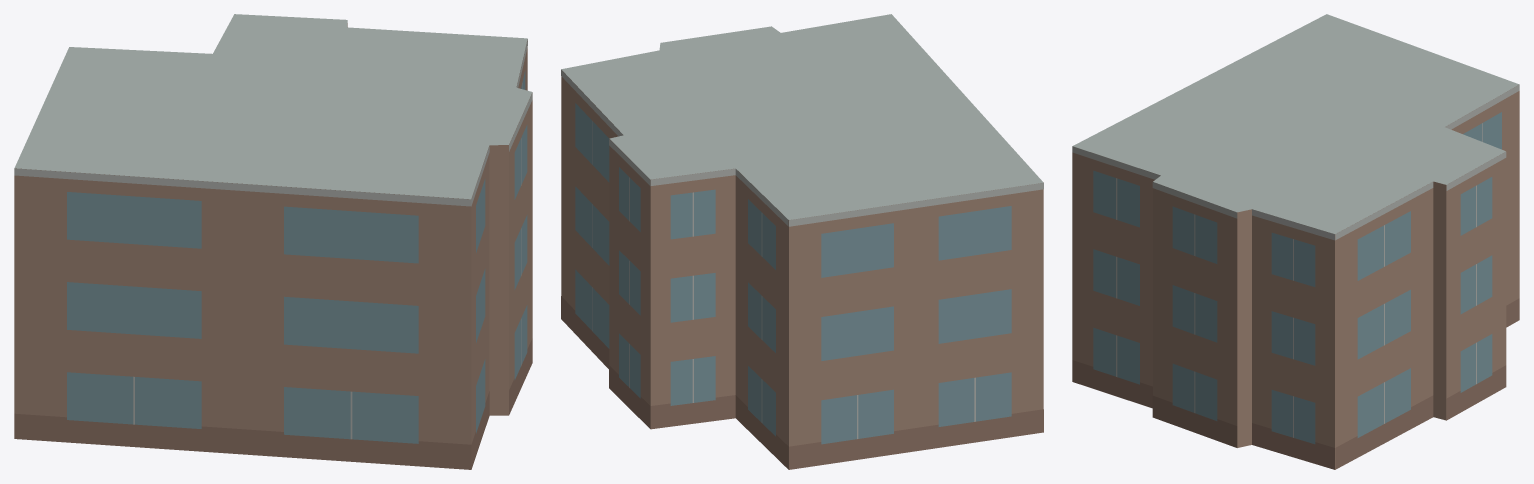
The model's file is survey-upis-32672709.glb.
3 views of the same model, side by side, from view 1: azimuth 30°, elevation 25°; view 2: azimuth 150°, elevation 25°; view 3: azimuth 270°, elevation 25° (orthographic). The views are drawn at different scales.
Visible parts, largest first — view 1: survey-upis-32672709.tmp; view 2: survey-upis-32672709.tmp; view 3: survey-upis-32672709.tmp.
Boxes of the visible parts, x1,y1,x2,y2 form: survey-upis-32672709.tmp: [14, 14, 532, 469]; survey-upis-32672709.tmp: [561, 14, 1043, 469]; survey-upis-32672709.tmp: [1072, 14, 1519, 469].
Size of the model in its own units: 18.35 by 9.15 by 15.74.
